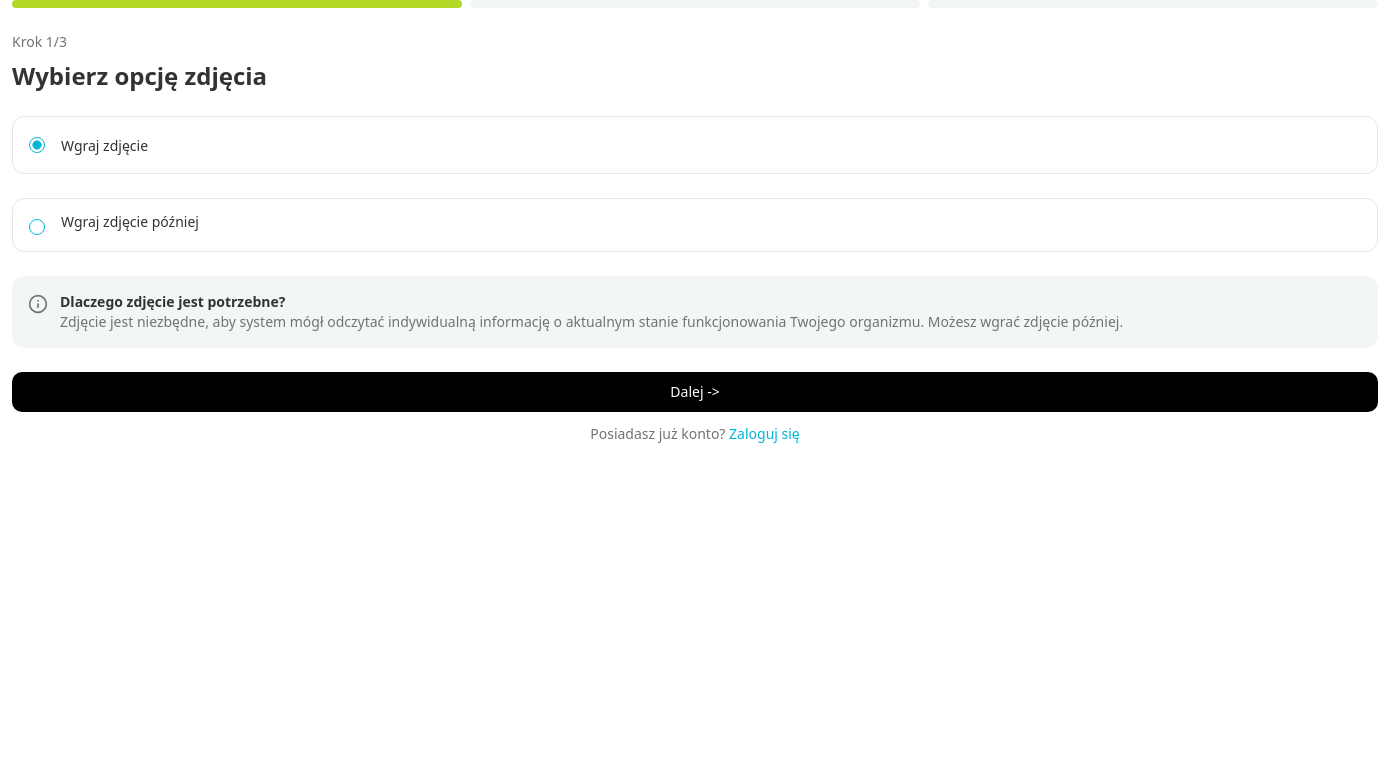
SignupWizard › passes firstName and lastName to signup
The width and height of the screenshot is (1390, 768).
Later steps or results of the test are not shown.
Click the radio button named "Wgraj zdjęcie później" next to "Wgraj zdjęcie później": (37, 227) x1=29 y1=219 x2=45 y2=235
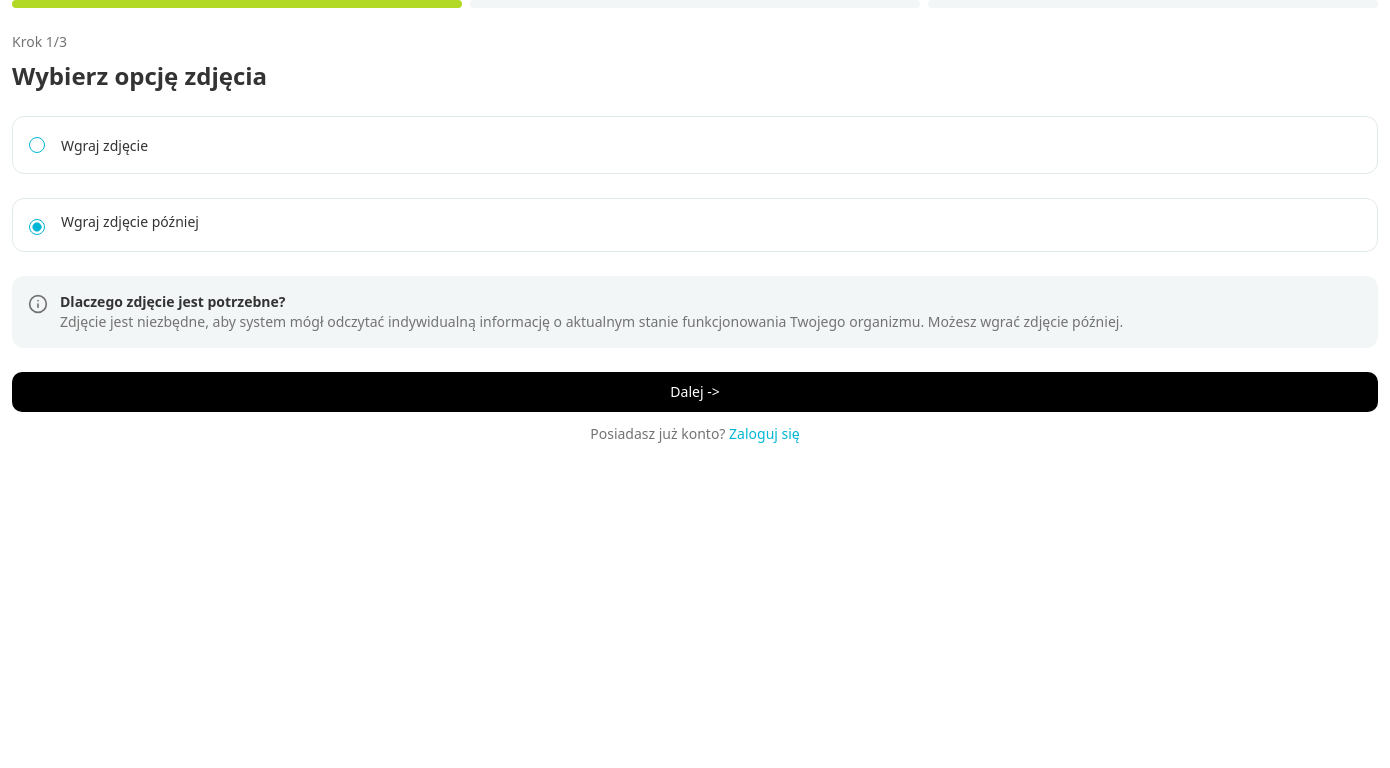
Click the button "Dalej ->": (695, 392) x1=12 y1=372 x2=1378 y2=412
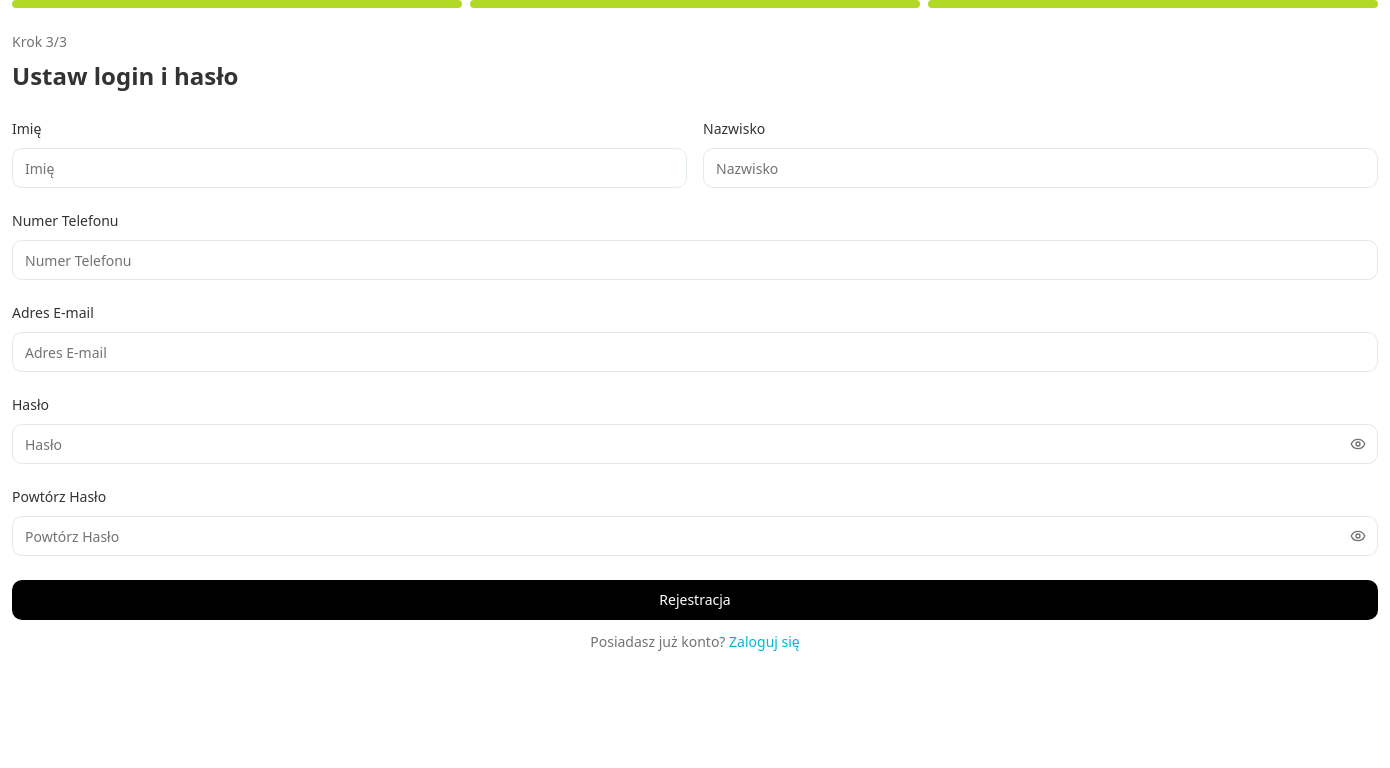
Expected: the heading "Ustaw login i hasło" is shown, x1=12 y1=59 x2=238 y2=92
